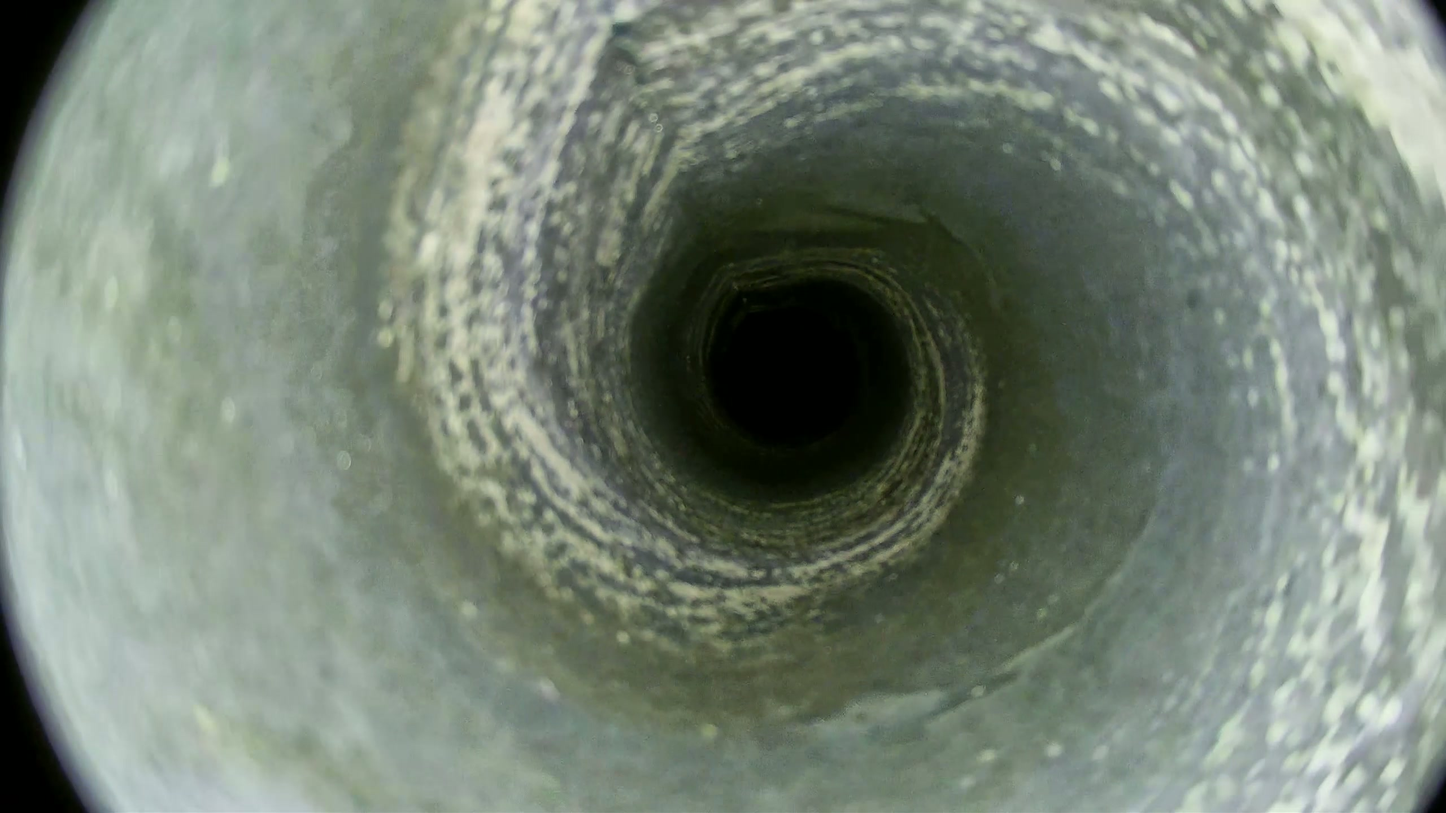hole: (717, 307, 858, 446)
